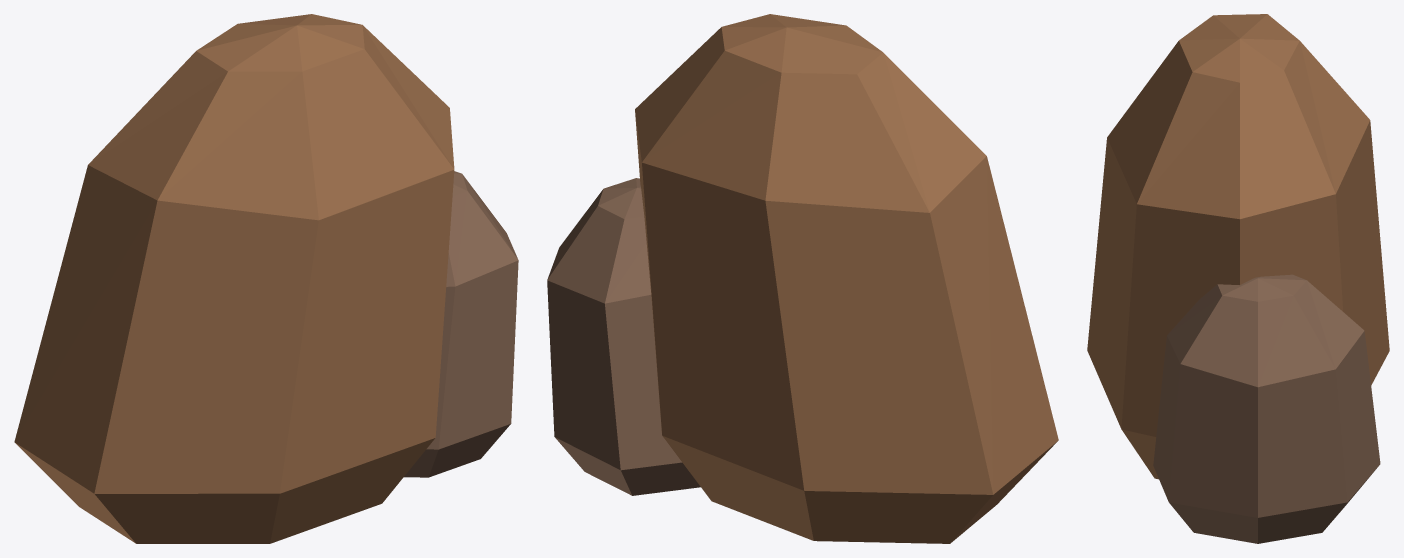
3 views of the same model, side by side, from view 1: azimuth 30°, elevation 25°; view 2: azimuth 150°, elevation 25°; view 3: azimuth 270°, elevation 25° (orthographic). The views are drawn at different scales.
Parts seen in each view (by area): view 1: R08_砂岩折脊; view 2: R08_砂岩折脊; view 3: R08_砂岩折脊.
Part boxes in pixels (x1,y1,x2,y2): R08_砂岩折脊: (14,14,518,543); R08_砂岩折脊: (547,14,1058,543); R08_砂岩折脊: (1087,14,1389,543).
Bounding box in the file's own units: 1.39 × 1.29 × 0.8407.
